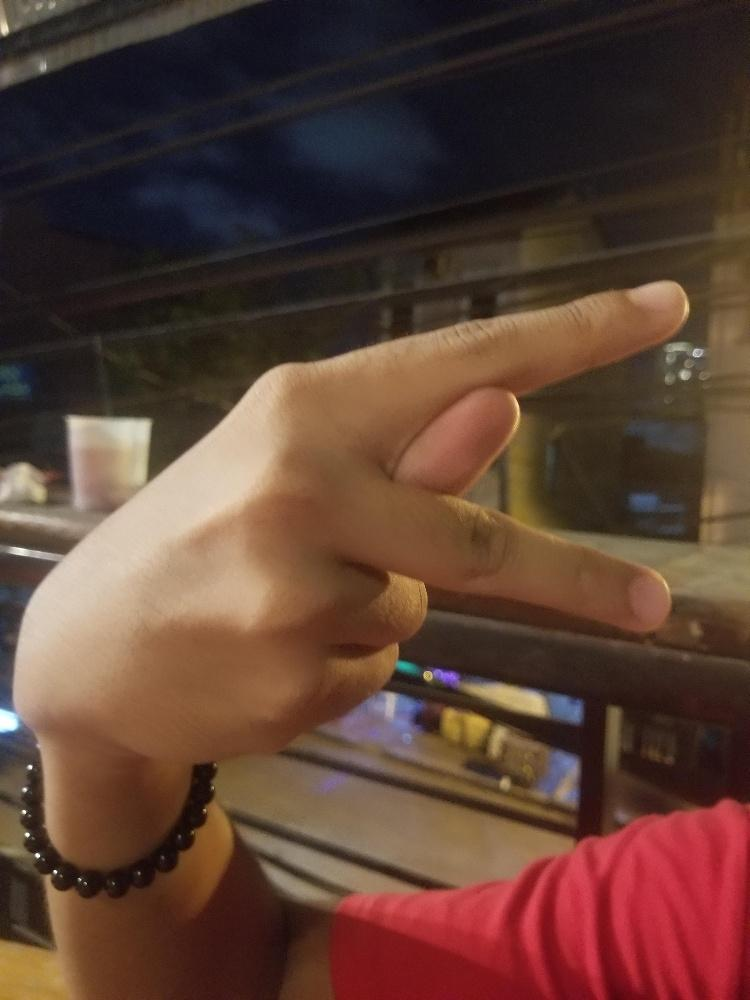k: (116, 276, 692, 762)
